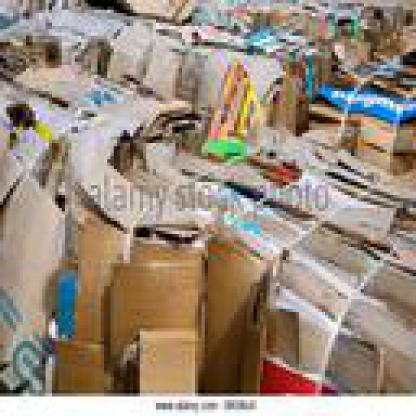CARDBOARD: (0, 0, 413, 390), (153, 130, 413, 393), (48, 211, 202, 393), (110, 16, 306, 130), (0, 143, 78, 390), (65, 95, 189, 228), (312, 224, 413, 387), (13, 55, 198, 143), (306, 48, 413, 176), (107, 257, 205, 390), (194, 0, 332, 85), (195, 234, 267, 390), (0, 71, 65, 169), (328, 0, 413, 65), (0, 32, 107, 74), (0, 0, 124, 36), (134, 325, 198, 390), (111, 0, 195, 20)
